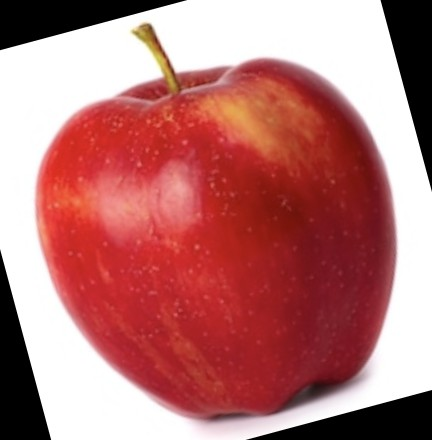fresh_apple: (36, 57, 399, 416)
